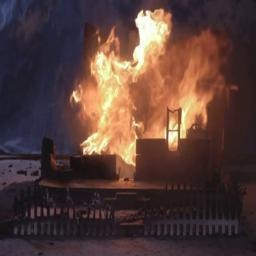fire: (63, 7, 231, 171)
